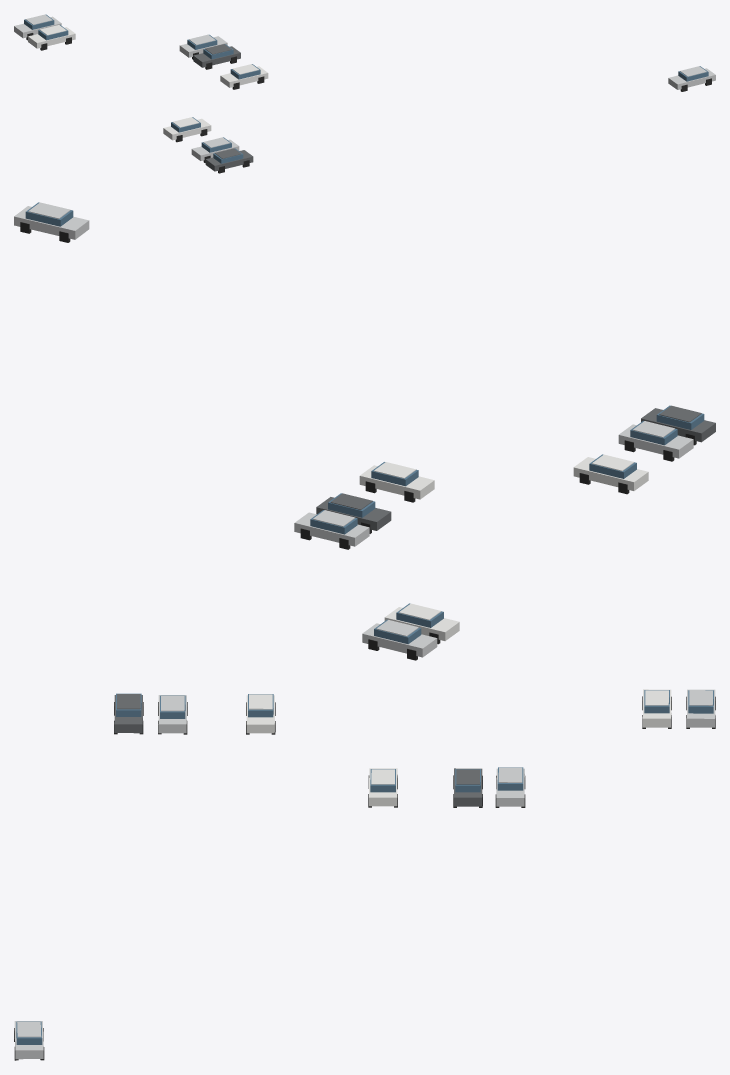
Rendered from site.glb.
The picture shows the model from 3 angles, top to bottom: view 1: azimuth 30°, elevation 25°; view 2: azimuth 150°, elevation 25°; view 3: azimuth 270°, elevation 25°; orthographic projection. The views are drawn at different scales.
Visible parts, largest first — view 1: Cars; view 2: Cars; view 3: Cars.
Part boxes in pixels (x1,y1,x2,y2): Cars: [14, 14, 715, 173]; Cars: [14, 202, 715, 660]; Cars: [14, 689, 715, 1060].
Bounding box in the file's own units: 54.32 × 1.45 × 44.66.
